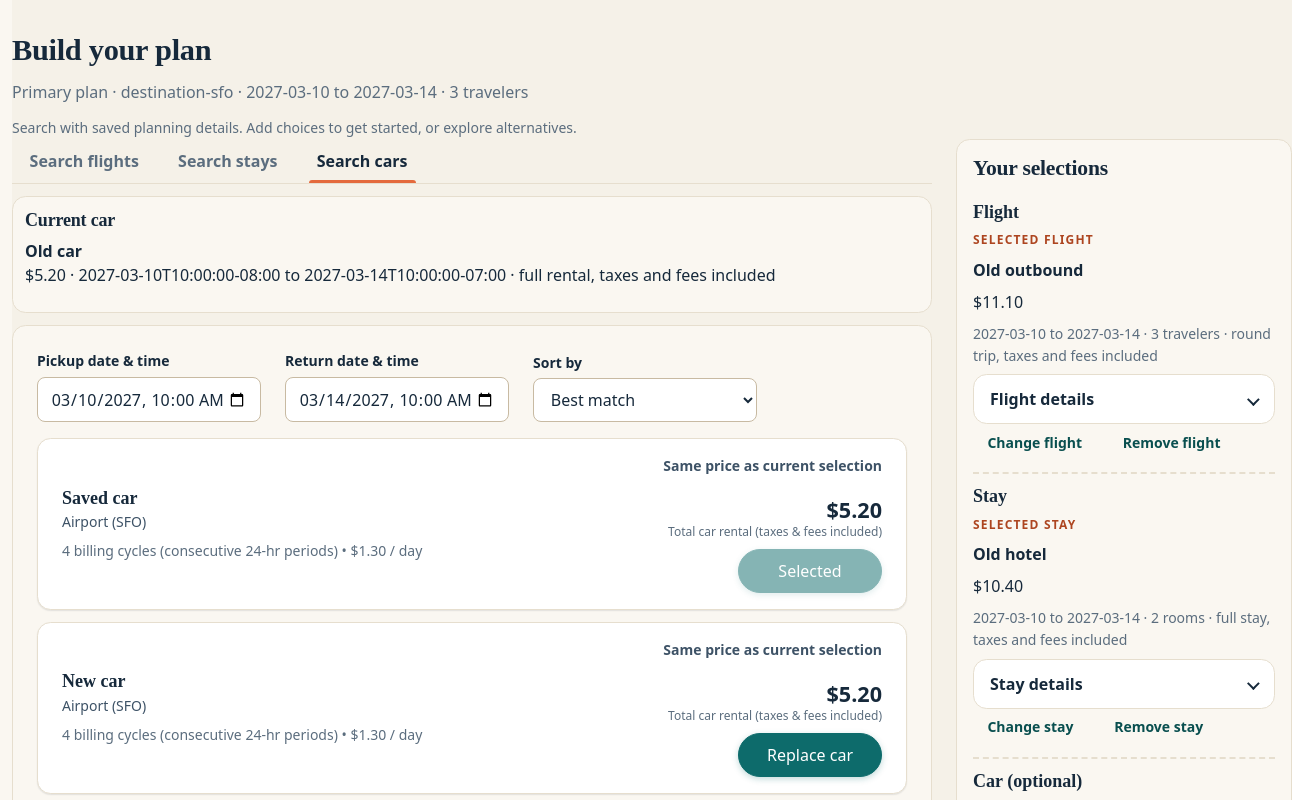
Test: selected search results first › unpins a car when the searched rental interval changes
Expected: the button "Selected" is shown, [738,549,882,593]
Replace the text in the field labelled "Return date & time" with "2027-03-13T10:00" at (397, 400), box [285,377,509,422]
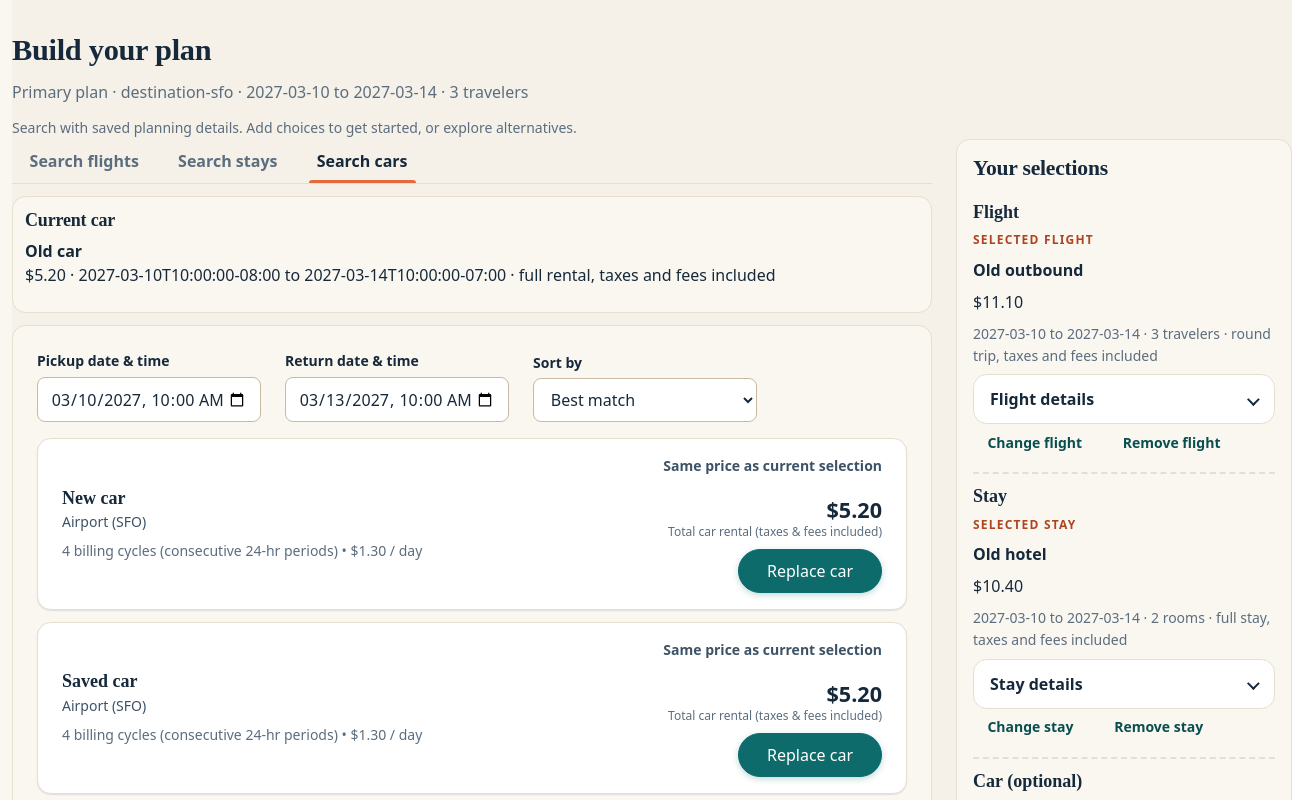
Now the element that starts with "New car" is shown, box [62,488,126,508]
